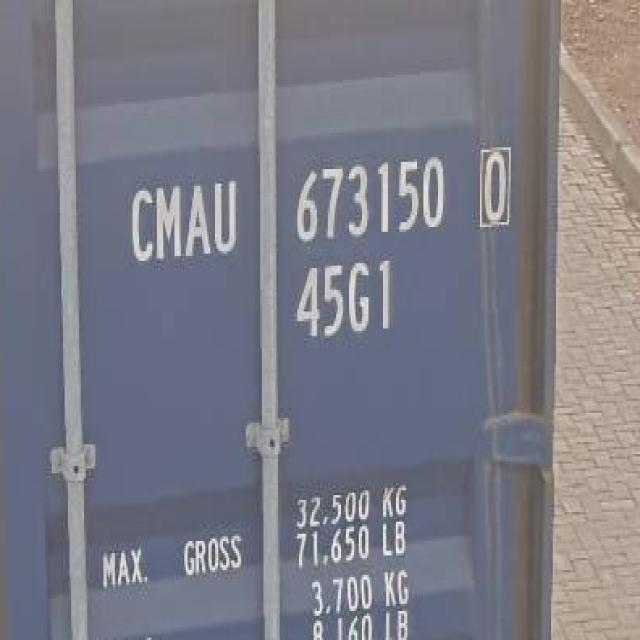dv: (468, 135, 518, 238)
owner: (123, 170, 244, 268)
serial: (286, 148, 449, 246)
size: (291, 259, 399, 340)
